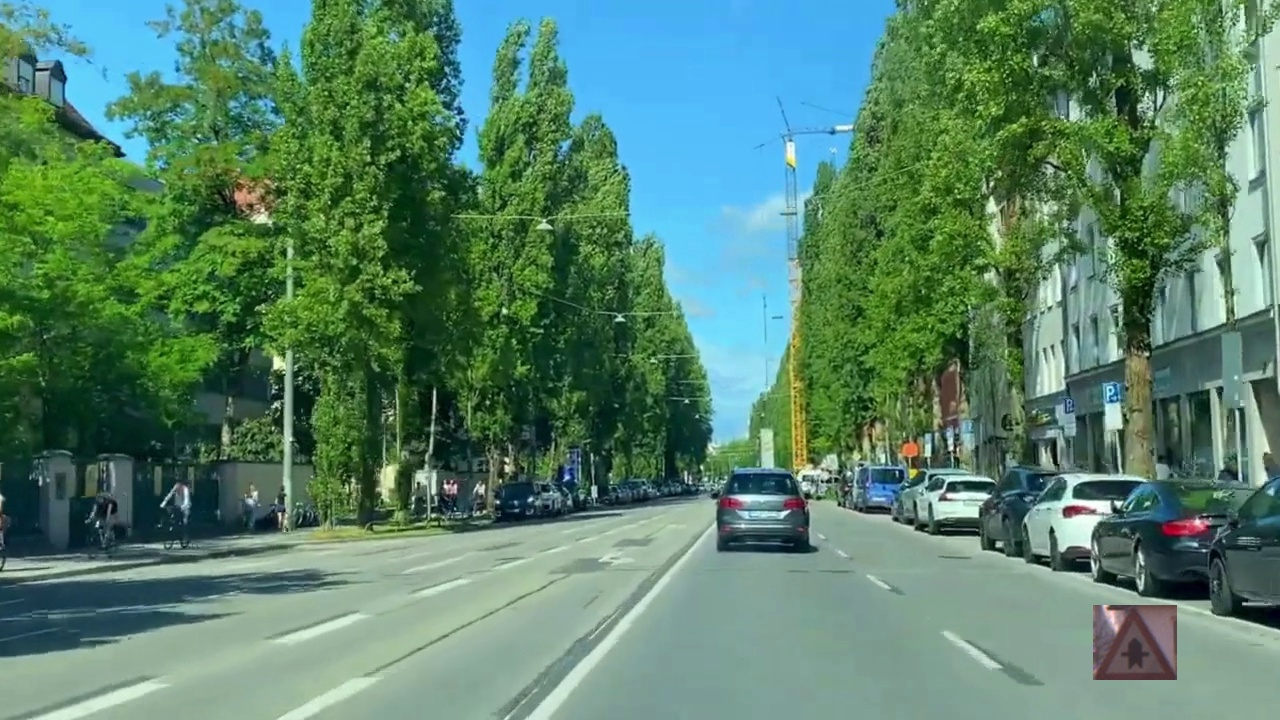Right-of-way: (1093, 605, 1177, 680)
